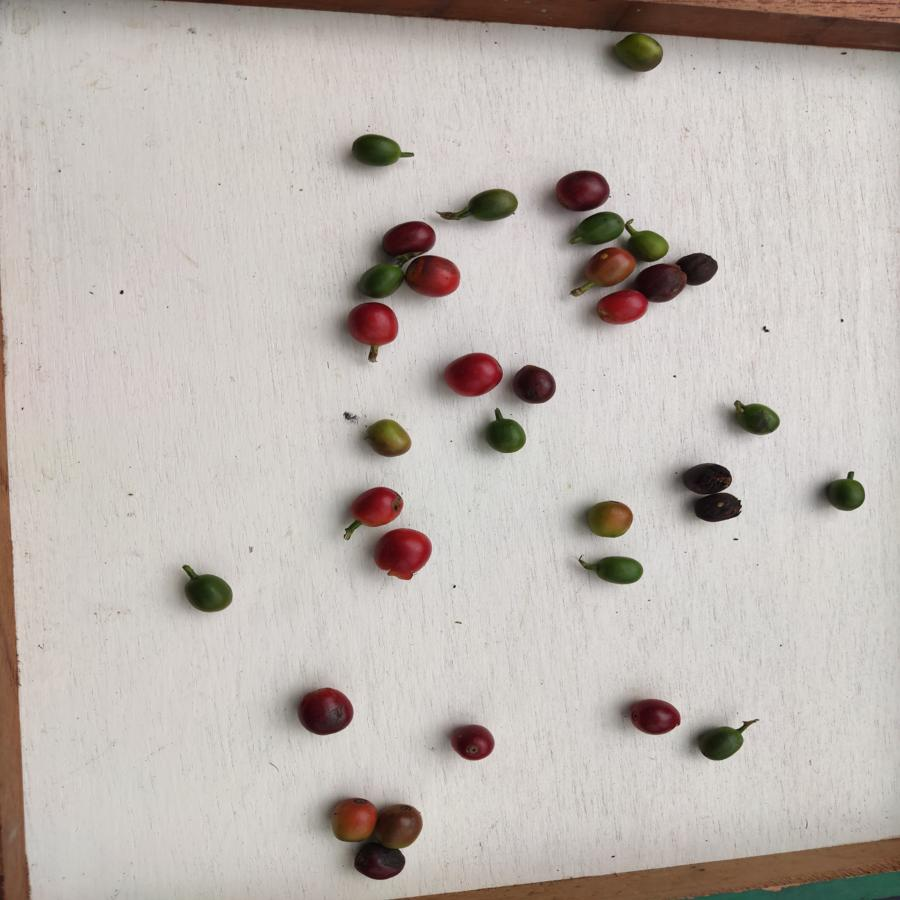Inmaduro: (695, 724, 753, 767), (180, 573, 236, 614), (481, 415, 531, 458), (348, 132, 404, 170), (464, 187, 517, 223), (354, 262, 406, 297), (736, 399, 782, 435), (592, 556, 646, 586), (575, 210, 624, 243), (826, 476, 871, 511), (625, 229, 670, 261)
Maduro: (372, 526, 435, 579), (442, 351, 505, 400), (402, 254, 463, 298), (346, 300, 401, 346), (349, 483, 405, 526), (592, 291, 648, 326)
Pinton: (328, 795, 378, 846), (580, 246, 636, 287), (609, 33, 665, 72), (363, 418, 415, 459), (585, 499, 636, 540)
Sobremaduro: (293, 683, 356, 741), (552, 168, 613, 212), (351, 843, 409, 887), (625, 693, 678, 738), (378, 801, 423, 851), (639, 261, 688, 304), (676, 461, 734, 497), (378, 218, 439, 252), (511, 364, 559, 404), (447, 724, 496, 761), (687, 492, 746, 522), (680, 247, 720, 288)
